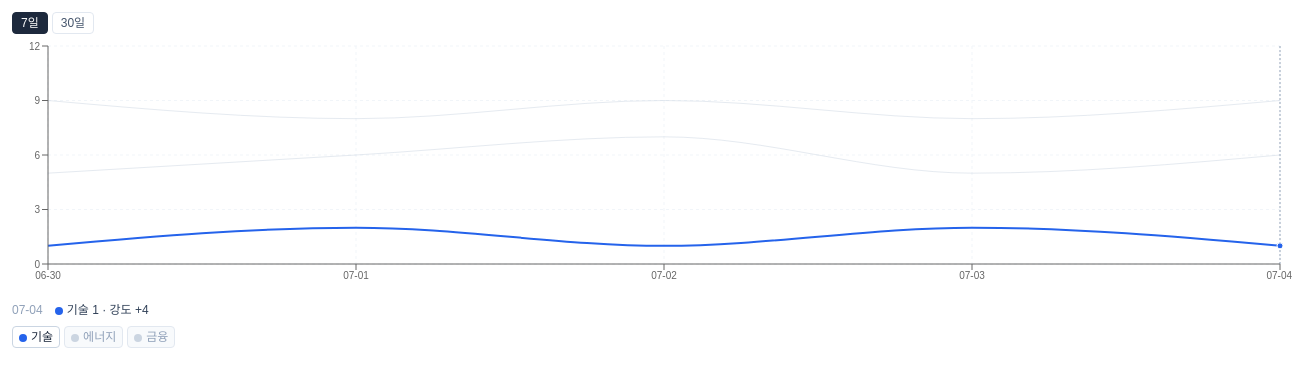
MultiLineTrendChart › E2: 범례 토글 → 리드아웃에 추가/제거
Click the button with test id "trend-legend-XLF".
click(151, 337)  # box x1=127 y1=326 x2=175 y2=348
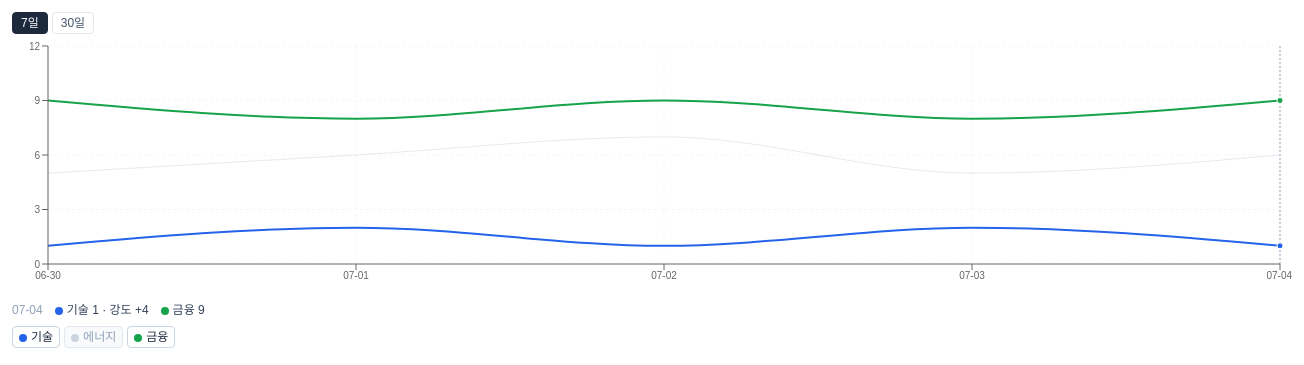
Expected: the element with test id "trend-readout-XLF" is shown, x1=161 y1=302 x2=205 y2=318
Click the button with test id "trend-legend-XLK".
click(36, 337)  # box x1=12 y1=326 x2=60 y2=348
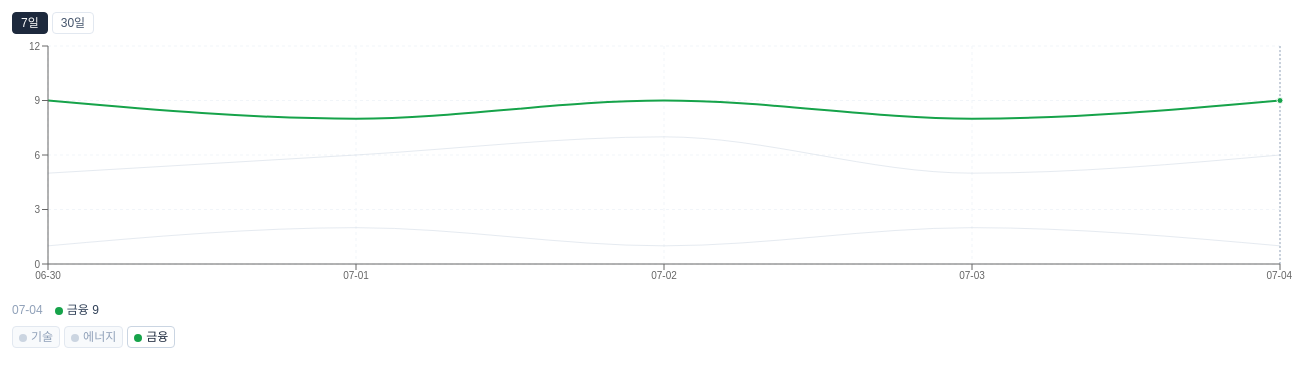
Expected: the element with test id "trend-readout-XLK" is gone
